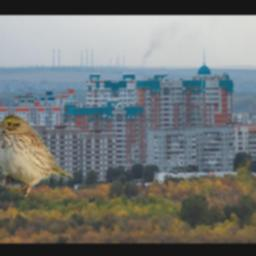Sparrow: (0, 111, 74, 197)
